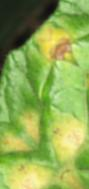Tomato mold leaf: (0, 16, 89, 189)
